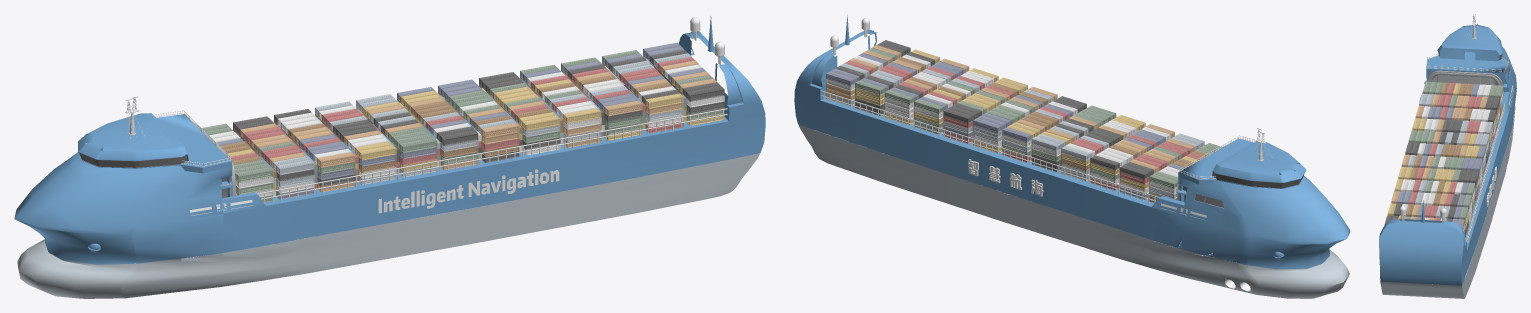
3 views of the same model, side by side, from view 1: azimuth 30°, elevation 25°; view 2: azimuth 150°, elevation 25°; view 3: azimuth 270°, elevation 25° (orthographic). The views are drawn at different scales.
Visible parts, largest first — view 1: 船体-空白, 集装箱, 盖子1, 立方体, 圆柱_0_7, 圆柱_1_7; view 2: 船体-空白, 集装箱, 盖子1, 立方体, 圆柱_0_7, 圆柱_1_7; view 3: 集装箱, 船体-空白, 盖子1, 立方体, 挡板, 圆柱_0_7, 灯罩, 圆柱_1_7, 克隆.2_2, 信号台.
Part boxes in pixels (left/top/right/bottom): 船体-空白: left=14, top=31, right=765, bottom=298; 集装箱: left=202, top=42, right=724, bottom=202; 盖子1: left=78, top=113, right=188, bottom=168; 立方体: left=156, top=114, right=232, bottom=173; 圆柱_0_7: left=257, top=108, right=727, bottom=194; 圆柱_1_7: left=261, top=114, right=727, bottom=199; 船体-空白: left=794, top=29, right=1350, bottom=298; 集装箱: left=826, top=40, right=1221, bottom=202; 盖子1: left=1212, top=141, right=1306, bottom=188; 立方体: left=1178, top=138, right=1253, bottom=184; 圆柱_0_7: left=821, top=90, right=1159, bottom=197; 圆柱_1_7: left=821, top=95, right=1155, bottom=201; 集装箱: left=1384, top=81, right=1503, bottom=237; 船体-空白: left=1379, top=46, right=1516, bottom=298; 盖子1: left=1437, top=24, right=1502, bottom=61; 立方体: left=1426, top=51, right=1509, bottom=75; 挡板: left=1427, top=70, right=1502, bottom=85; 圆柱_0_7: left=1466, top=103, right=1504, bottom=241; 灯罩: left=1399, top=206, right=1446, bottom=222; 圆柱_1_7: left=1467, top=109, right=1504, bottom=242; 克隆.2_2: left=1426, top=66, right=1503, bottom=71; 信号台: left=1464, top=14, right=1477, bottom=39.
Size of the model in its own units: 745 by 182 by 199.
